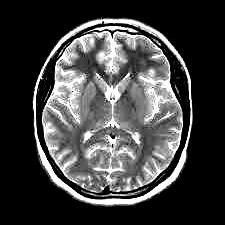Normal_Brain: (24, 1, 187, 225)
